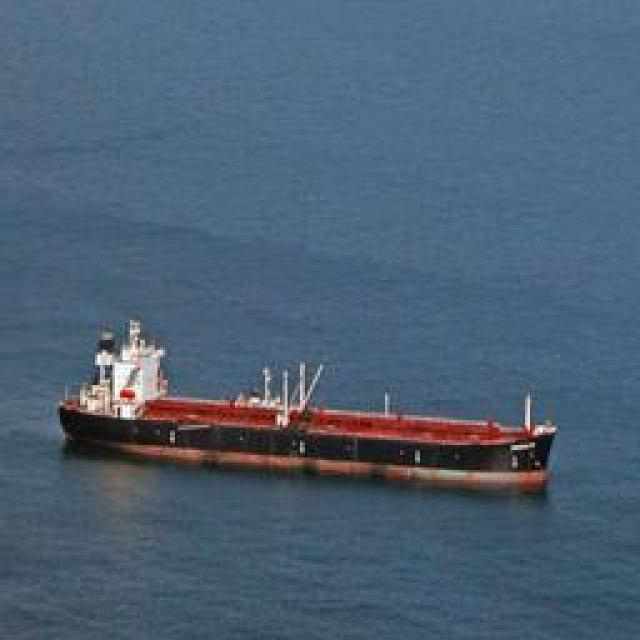ship2: (59, 321, 558, 495)
